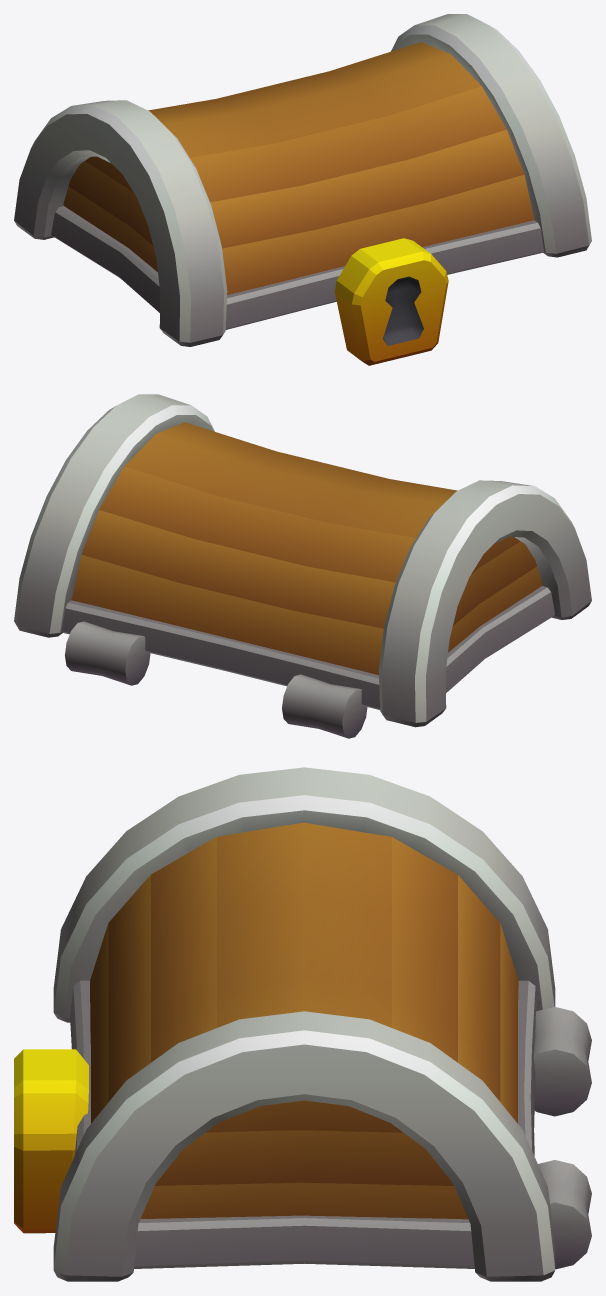
The model's file is Basic_Chest_Top.glb.
3 views of the same model, one above another, from view 1: azimuth 30°, elevation 25°; view 2: azimuth 150°, elevation 25°; view 3: azimuth 270°, elevation 25° (orthographic). The views are drawn at different scales.
Parts seen in each view (by area): view 1: Basic_Chest_Top; view 2: Basic_Chest_Top; view 3: Basic_Chest_Top.
Boxes of the visible parts, x1,y1,x2,y2 form: Basic_Chest_Top: [14, 14, 591, 365]; Basic_Chest_Top: [14, 394, 591, 738]; Basic_Chest_Top: [14, 767, 591, 1281].
Bounding box in the file's own units: 1.42 × 0.711 × 1.19.
Materials: 1 (1 with a texture image).
